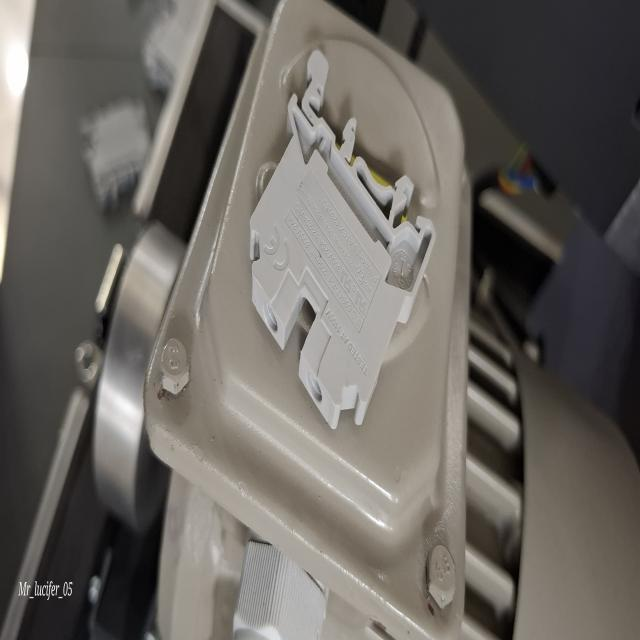Inverted: (247, 46, 437, 437)
